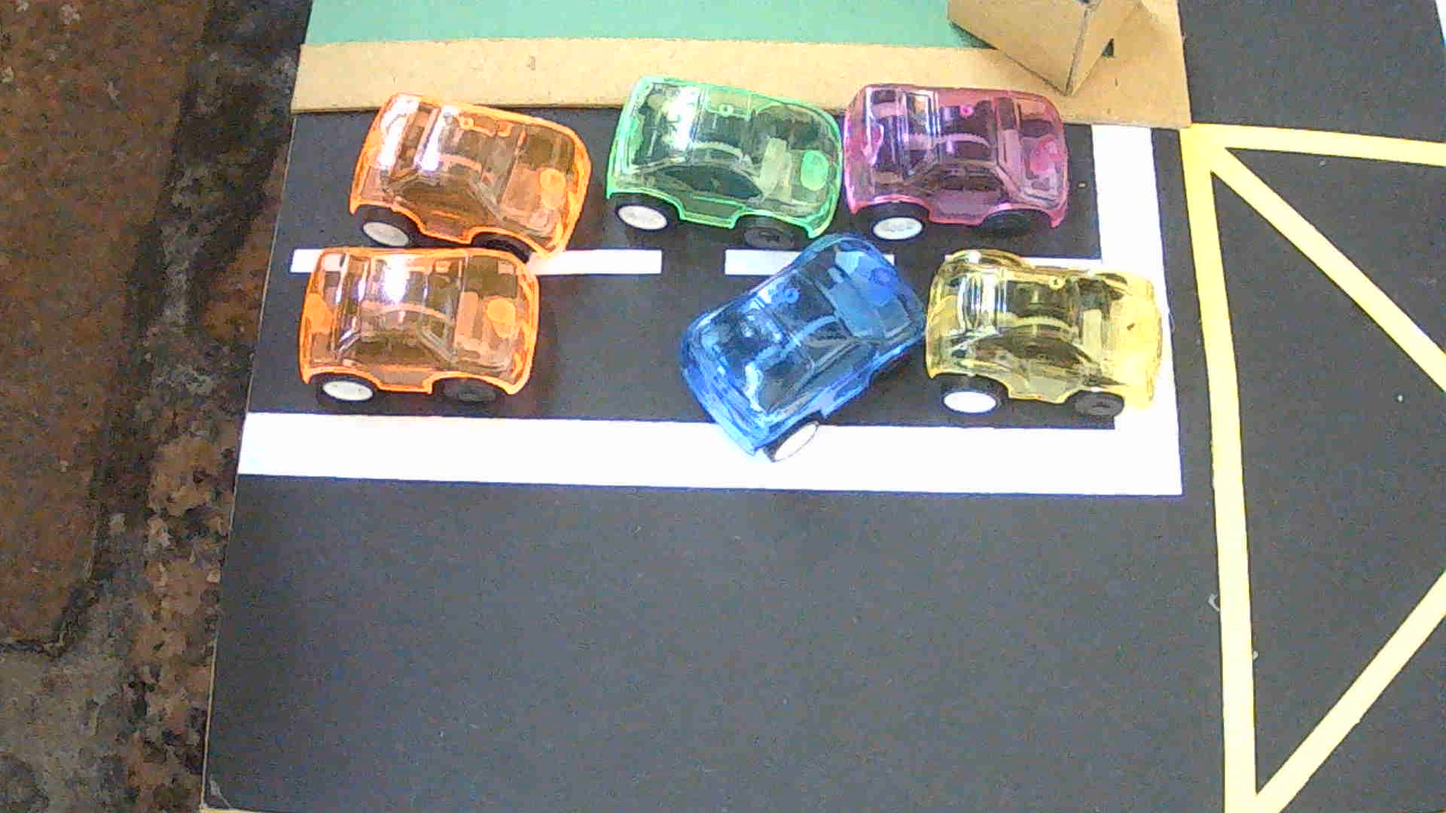Mobil biru: (680, 233, 924, 460)
Mobil hijau: (606, 76, 844, 248)
Mobil kuning: (924, 249, 1162, 419)
Mobil orange: (349, 93, 590, 261), (298, 248, 538, 402)
Mobil ungu: (843, 84, 1068, 241)
